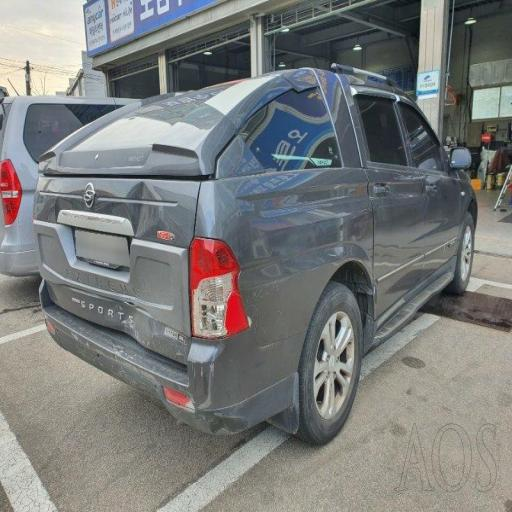dent: (44, 200, 261, 448)
